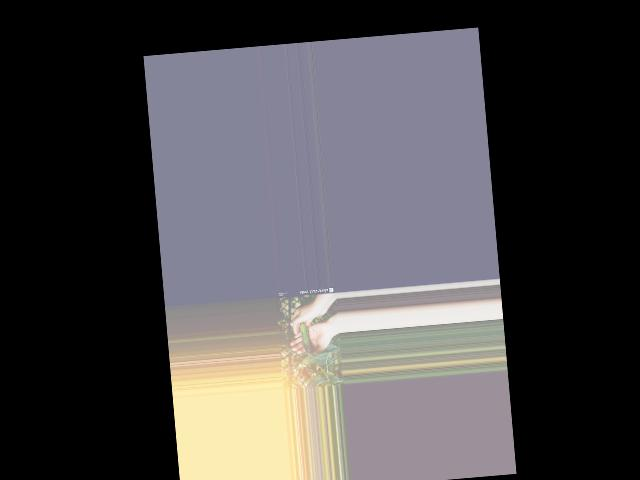cucumber: (299, 322, 313, 353)
